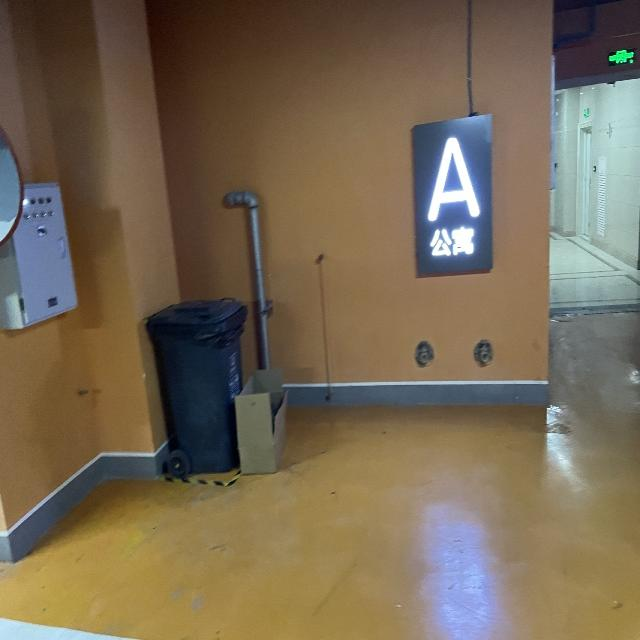garbage: (232, 369, 286, 474)
garbage_bin: (145, 297, 247, 473)
